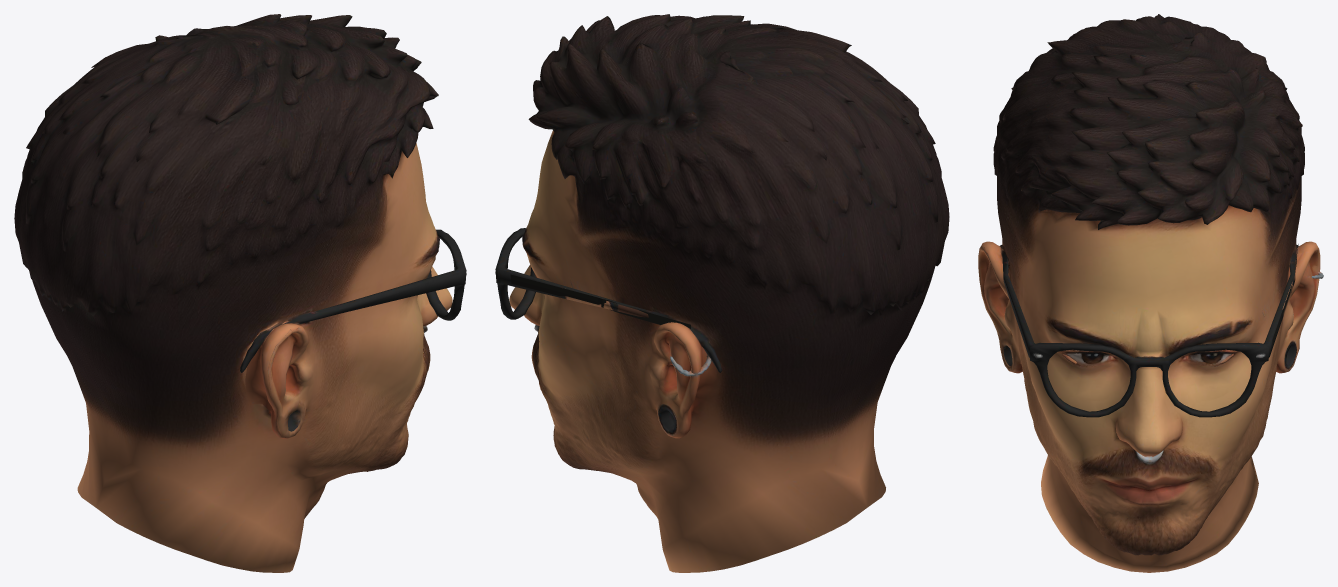
Rendered from timbo_principal_lowpoly_v2.glb.
The picture shows the model from 3 angles, left to right: view 1: azimuth 30°, elevation 25°; view 2: azimuth 150°, elevation 25°; view 3: azimuth 270°, elevation 25°; orthographic projection. The views are drawn at different scales.
Visible parts, largest first — view 1: tripo_node_b42344b4-eb72-431d-892a-b4962ef7fac1; view 2: tripo_node_b42344b4-eb72-431d-892a-b4962ef7fac1, Plane; view 3: tripo_node_b42344b4-eb72-431d-892a-b4962ef7fac1.
Part boxes in pixels (x1,y1,x2,y2): tripo_node_b42344b4-eb72-431d-892a-b4962ef7fac1: (14,14,466,572); tripo_node_b42344b4-eb72-431d-892a-b4962ef7fac1: (495,14,949,572); Plane: (510,274,690,328); tripo_node_b42344b4-eb72-431d-892a-b4962ef7fac1: (978,14,1323,572).
Bounding box in the file's own units: 0.8121 × 0.9941 × 0.6165.
Materials: 2 (1 with a texture image).
